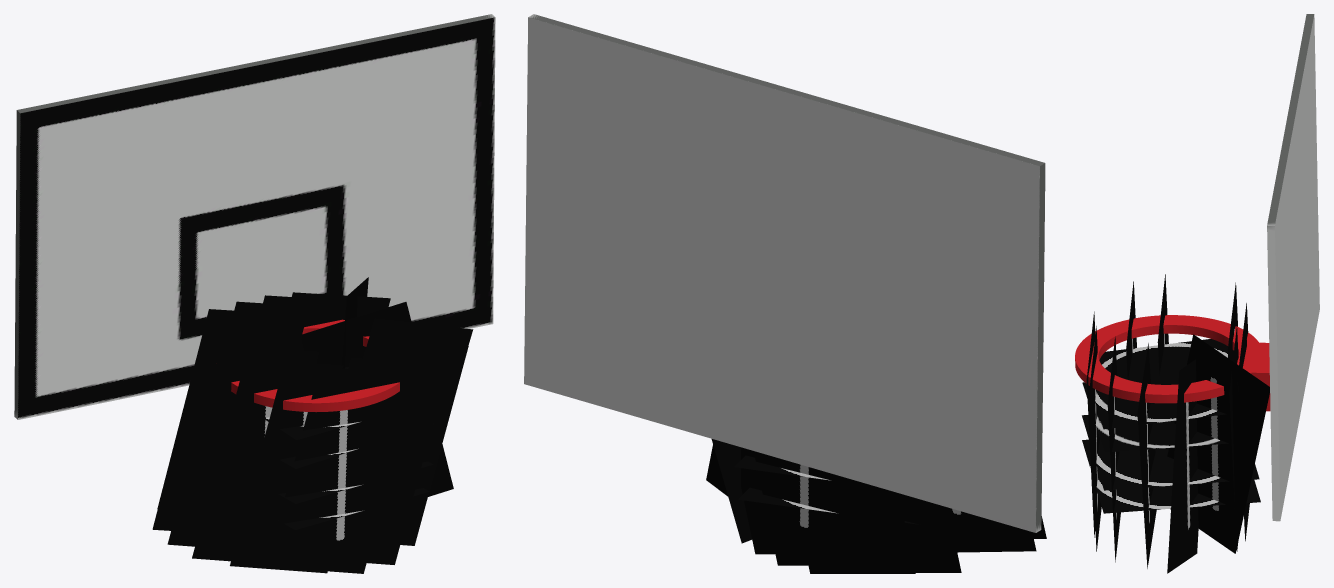
File: goal.fbx
3 views of the same model, side by side, from view 1: azimuth 30°, elevation 25°; view 2: azimuth 150°, elevation 25°; view 3: azimuth 270°, elevation 25° (orthographic). The views are drawn at different scales.
Parts seen in each view (by area): view 1: node_id65, node_id73, node_id99, node_id75, node_id71, node_id101, node_id97, node_id79, node_id81, node_id61, node_id95, node_id69 (+2 smaller); view 2: node_id65, node_id91, node_id95, node_id93, node_id101, node_id83, node_id69, node_id89; view 3: node_id65, node_id83, node_id61, node_id63, node_id81, node_id87, node_id89, node_id85, node_id77, node_id71, node_id79, node_id73 (+6 smaller).
Boxes of the visible parts, left/top/right/bottom form: node_id65: left=14, top=14, right=495, bottom=419; node_id73: left=266, top=367, right=417, bottom=573; node_id99: left=192, top=358, right=343, bottom=561; node_id75: left=230, top=366, right=327, bottom=573; node_id71: left=348, top=358, right=448, bottom=564; node_id101: left=167, top=344, right=318, bottom=546; node_id97: left=152, top=329, right=301, bottom=530; node_id79: left=366, top=339, right=468, bottom=545; node_id81: left=300, top=302, right=453, bottom=496; node_id61: left=231, top=319, right=399, bottom=412; node_id95: left=157, top=309, right=306, bottom=508; node_id69: left=287, top=292, right=390, bottom=350; node_id65: left=524, top=14, right=1045, bottom=532; node_id91: left=753, top=451, right=883, bottom=565; node_id95: left=898, top=493, right=961, bottom=572; node_id93: left=808, top=484, right=915, bottom=573; node_id101: left=947, top=507, right=1036, bottom=552; node_id83: left=711, top=439, right=751, bottom=543; node_id69: left=741, top=447, right=775, bottom=554; node_id89: left=738, top=487, right=918, bottom=524; node_id65: left=1267, top=14, right=1319, bottom=521; node_id83: left=1167, top=334, right=1269, bottom=553; node_id61: left=1075, top=315, right=1262, bottom=403; node_id63: left=1095, top=339, right=1227, bottom=429; node_id81: left=1167, top=359, right=1198, bottom=573; node_id87: left=1082, top=415, right=1259, bottom=490; node_id89: left=1082, top=439, right=1260, bottom=513; node_id85: left=1082, top=382, right=1228, bottom=452; node_id77: left=1137, top=343, right=1156, bottom=568; node_id71: left=1089, top=326, right=1101, bottom=551; node_id79: left=1107, top=336, right=1120, bottom=562; node_id73: left=1086, top=311, right=1095, bottom=537.
Bounding box in the file's own units: 0.512 × 0.4686 × 0.2494.
21 materials, 19 textured.
